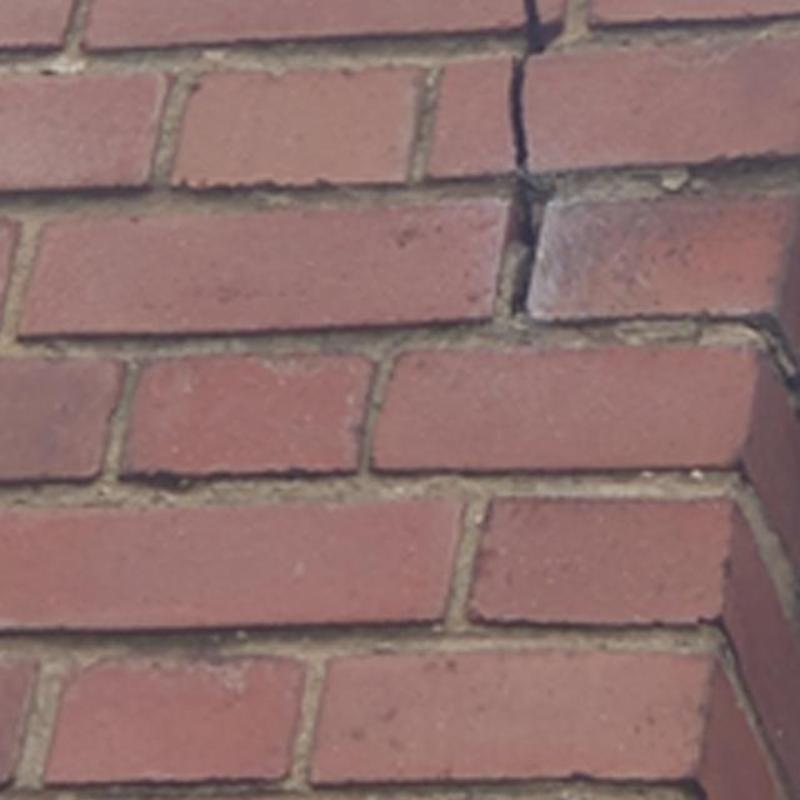crack: (497, 2, 567, 167), (511, 174, 540, 314)
